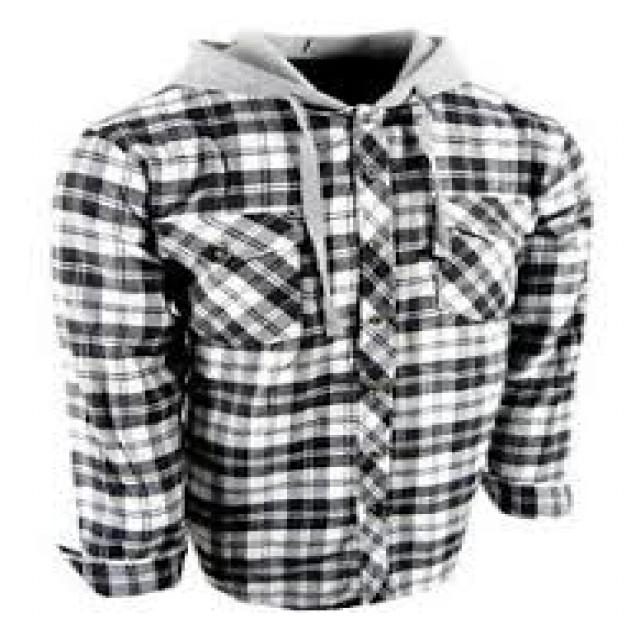plaid: (48, 88, 589, 606)
